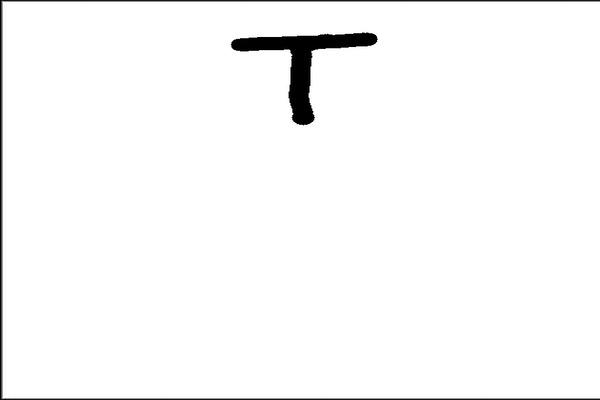T: (225, 26, 381, 131)
